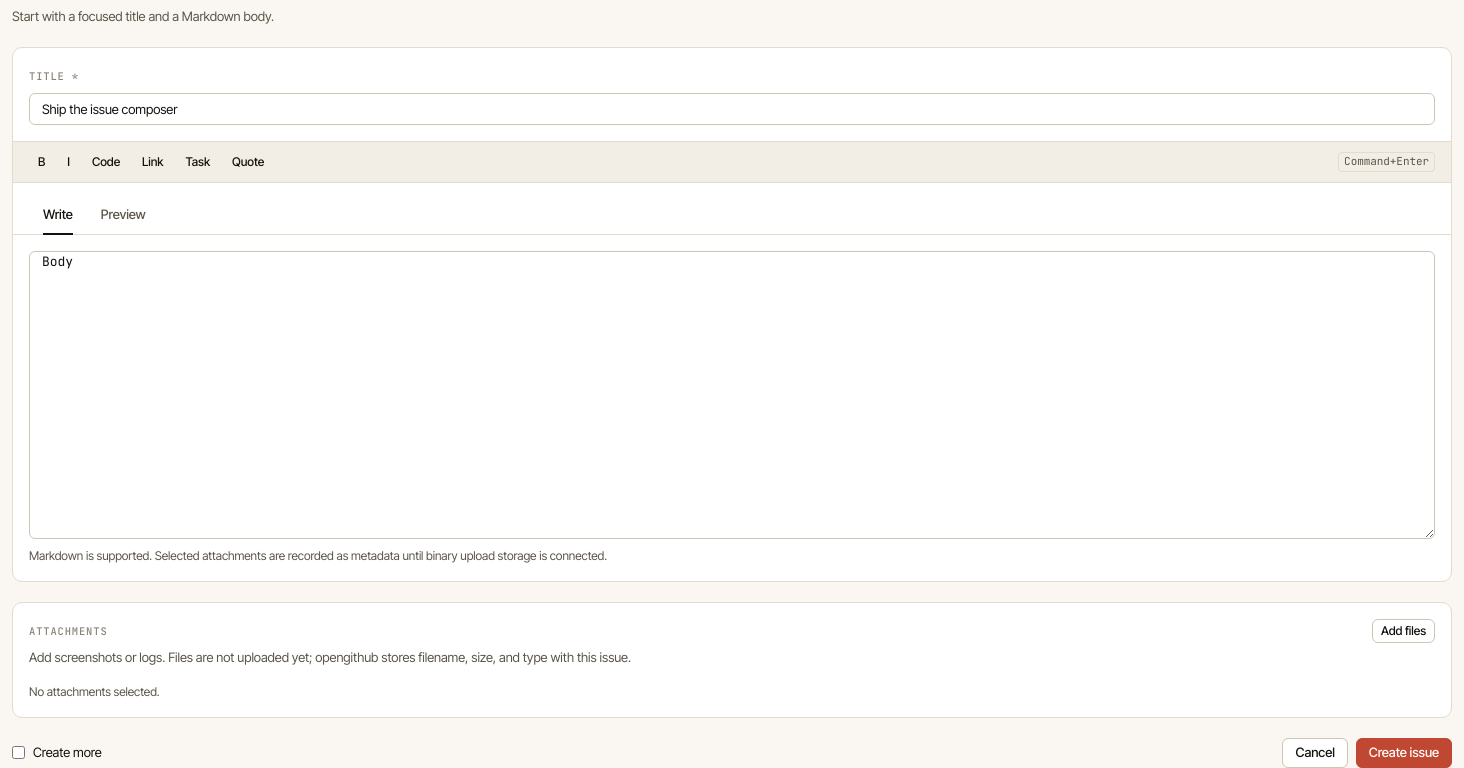
Test: IssueCreateForm › creates an issue and resets the form when Create more is checked
The image size is (1464, 768).
(page scrolled)
Click the checkbox labelled "Create more".
click(18, 753)  # box [12,746,25,759]
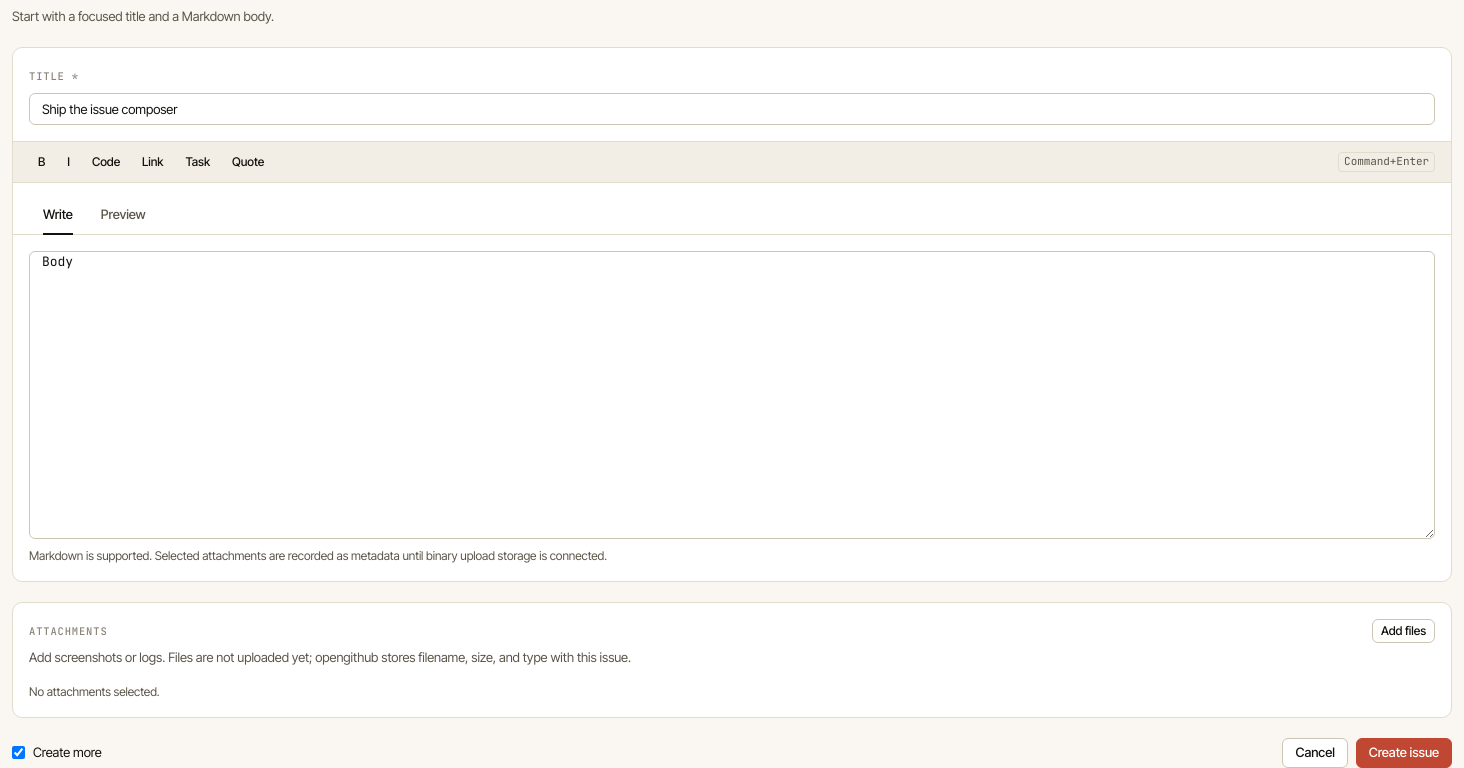
Click the button "Create issue".
click(1404, 753)  # box [1356,738,1452,767]
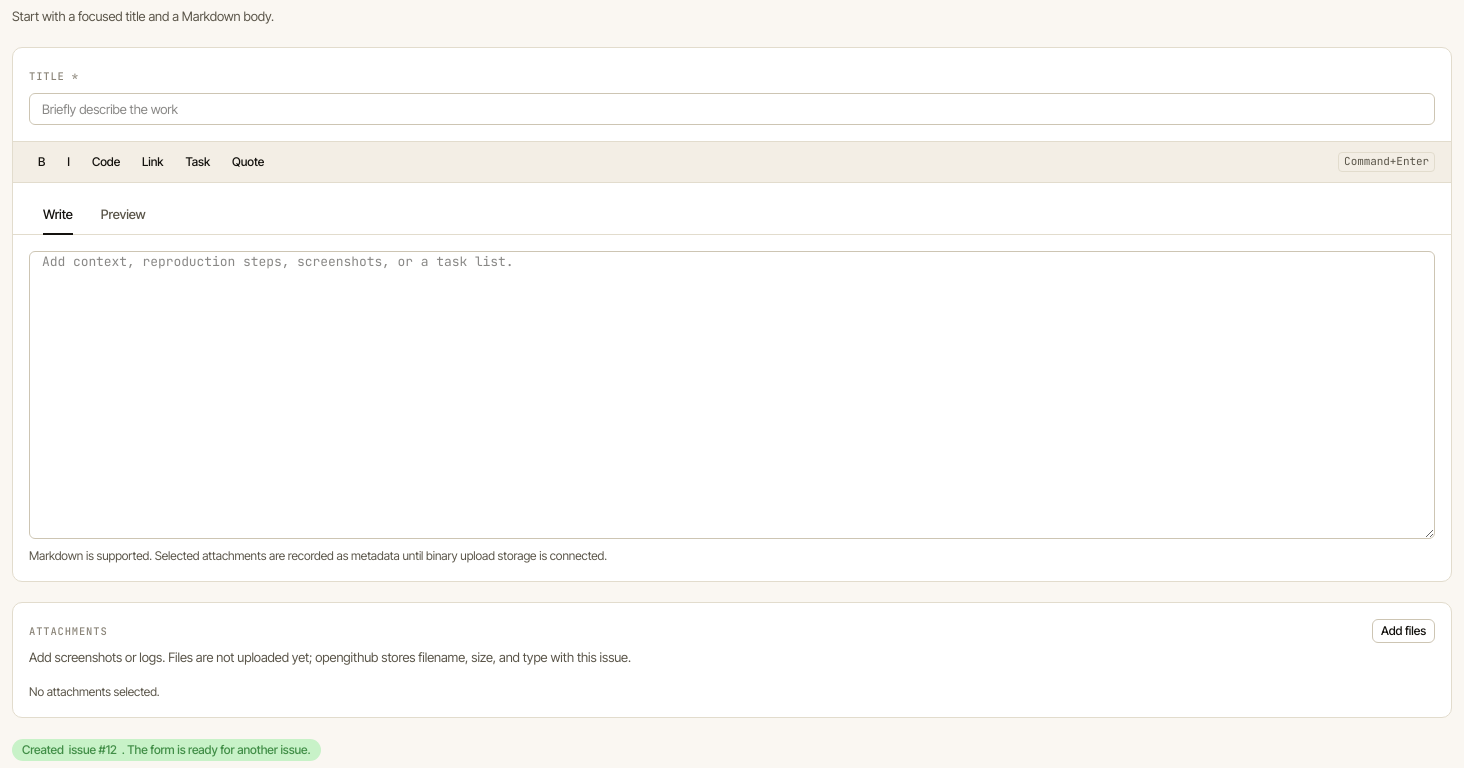
Now the message shows "Created issue #12", box [12,739,321,761]
Now the field labelled "Title *" is empty, box [29,93,1435,125]
Now the text box named "Issue body" is empty, box [29,251,1435,539]
